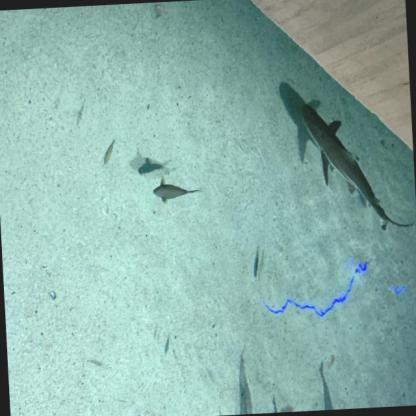fish: (234, 348, 254, 414), (153, 181, 203, 207), (314, 361, 337, 410), (136, 157, 168, 178), (249, 245, 265, 284), (100, 139, 118, 167), (72, 97, 86, 128), (161, 333, 172, 358), (270, 394, 279, 413)
shark: (299, 95, 388, 223)
